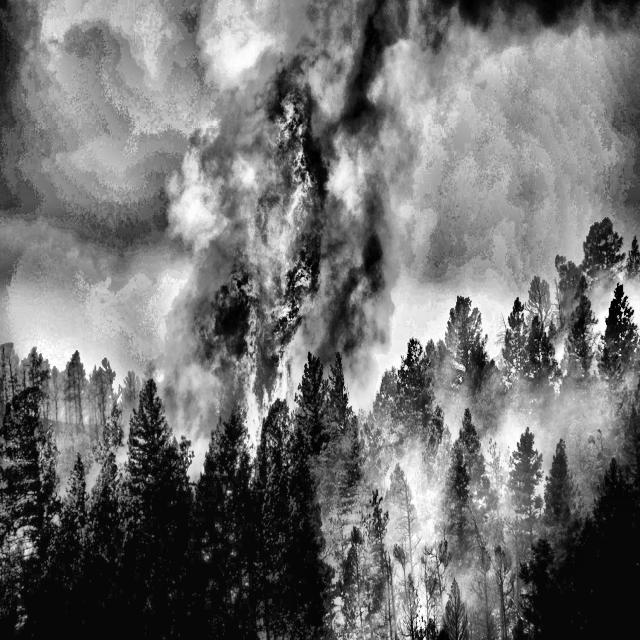fire: (172, 57, 408, 592)
